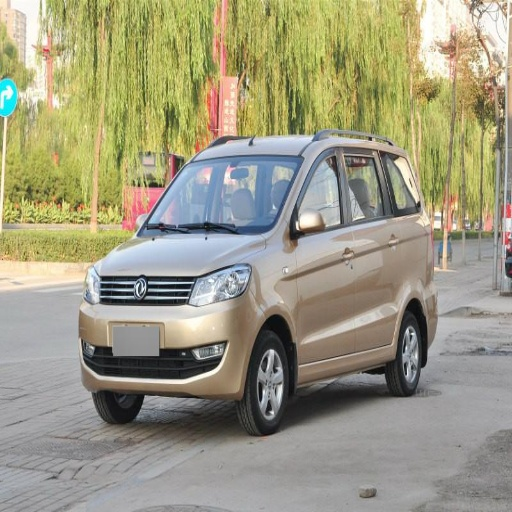front_bumper: (80, 275, 260, 399)
front_glass: (140, 158, 303, 233)
front_left_door: (291, 146, 357, 366)
